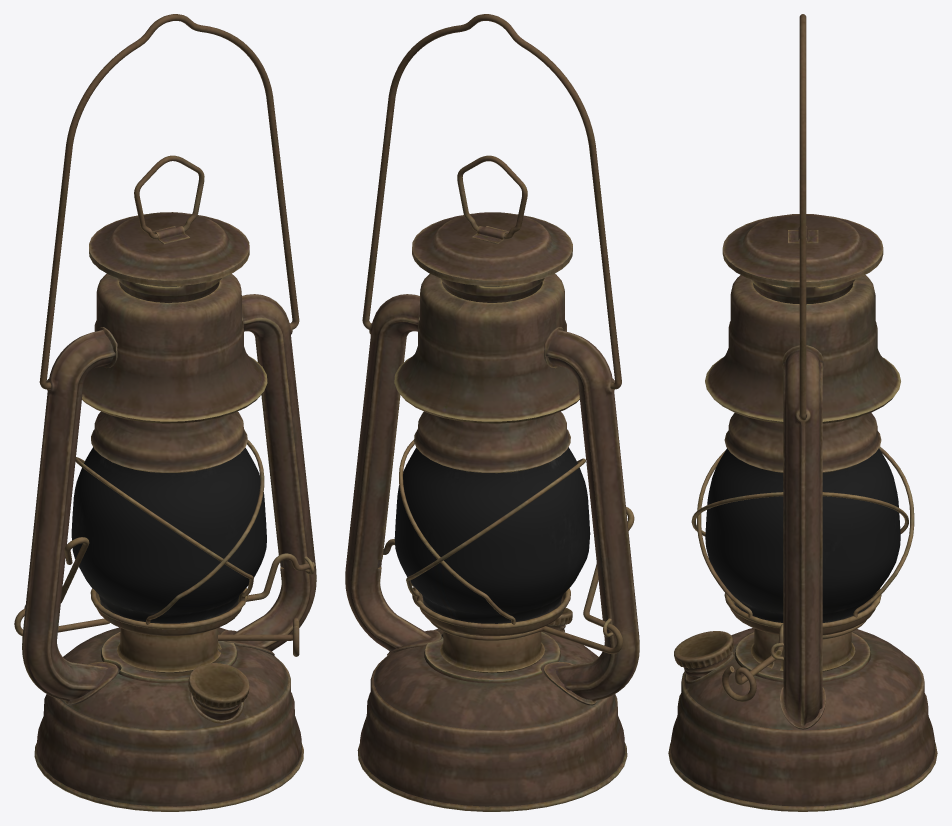
File: lantern_01.glb
The picture shows the model from 3 angles, left to right: view 1: azimuth 30°, elevation 25°; view 2: azimuth 150°, elevation 25°; view 3: azimuth 270°, elevation 25°; orthographic projection.
Parts seen in each view (by area): view 1: Lantern_01, Lantern_01_glass; view 2: Lantern_01, Lantern_01_glass; view 3: Lantern_01, Lantern_01_glass.
Boxes of the visible parts, bbox=[...] form: Lantern_01: bbox=[14, 14, 316, 811]; Lantern_01_glass: bbox=[71, 447, 266, 623]; Lantern_01: bbox=[345, 14, 639, 811]; Lantern_01_glass: bbox=[394, 447, 590, 623]; Lantern_01: bbox=[668, 14, 937, 811]; Lantern_01_glass: bbox=[705, 448, 900, 622].
Size of the model in its own units: 0.1221 by 0.2942 by 0.0972.
Materials: 2 (2 with a texture image).
